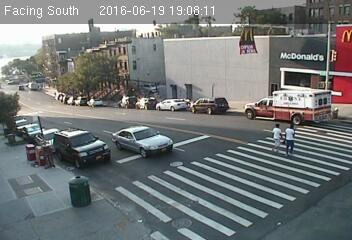neg: (160, 43, 185, 77), (25, 136, 49, 167), (246, 53, 262, 74)
pos: (280, 124, 305, 157), (264, 121, 287, 152)
